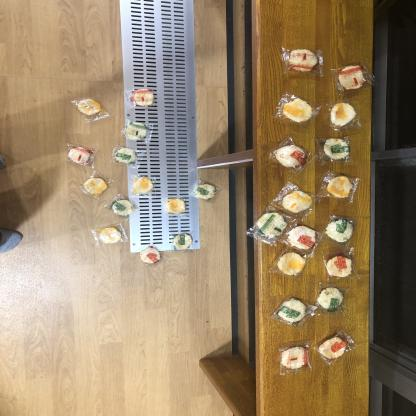green_setoshio: (270, 296, 316, 328), (320, 211, 359, 246), (250, 211, 287, 245), (317, 136, 356, 164), (314, 286, 348, 315), (122, 119, 154, 144), (111, 144, 144, 168), (106, 196, 139, 217), (191, 180, 220, 202), (169, 231, 195, 252)
red_setoshio: (277, 43, 327, 79), (271, 138, 316, 172), (332, 62, 374, 92), (316, 333, 356, 362), (279, 341, 313, 375), (325, 250, 359, 280), (287, 225, 322, 252), (65, 144, 98, 168), (138, 244, 167, 266), (127, 87, 158, 107)
yellow_setoshio: (273, 92, 319, 127), (322, 168, 361, 202), (276, 183, 318, 214), (326, 101, 362, 131), (273, 251, 313, 278), (72, 94, 106, 123), (82, 171, 114, 198), (93, 223, 129, 246), (130, 174, 159, 197), (164, 197, 188, 216)
